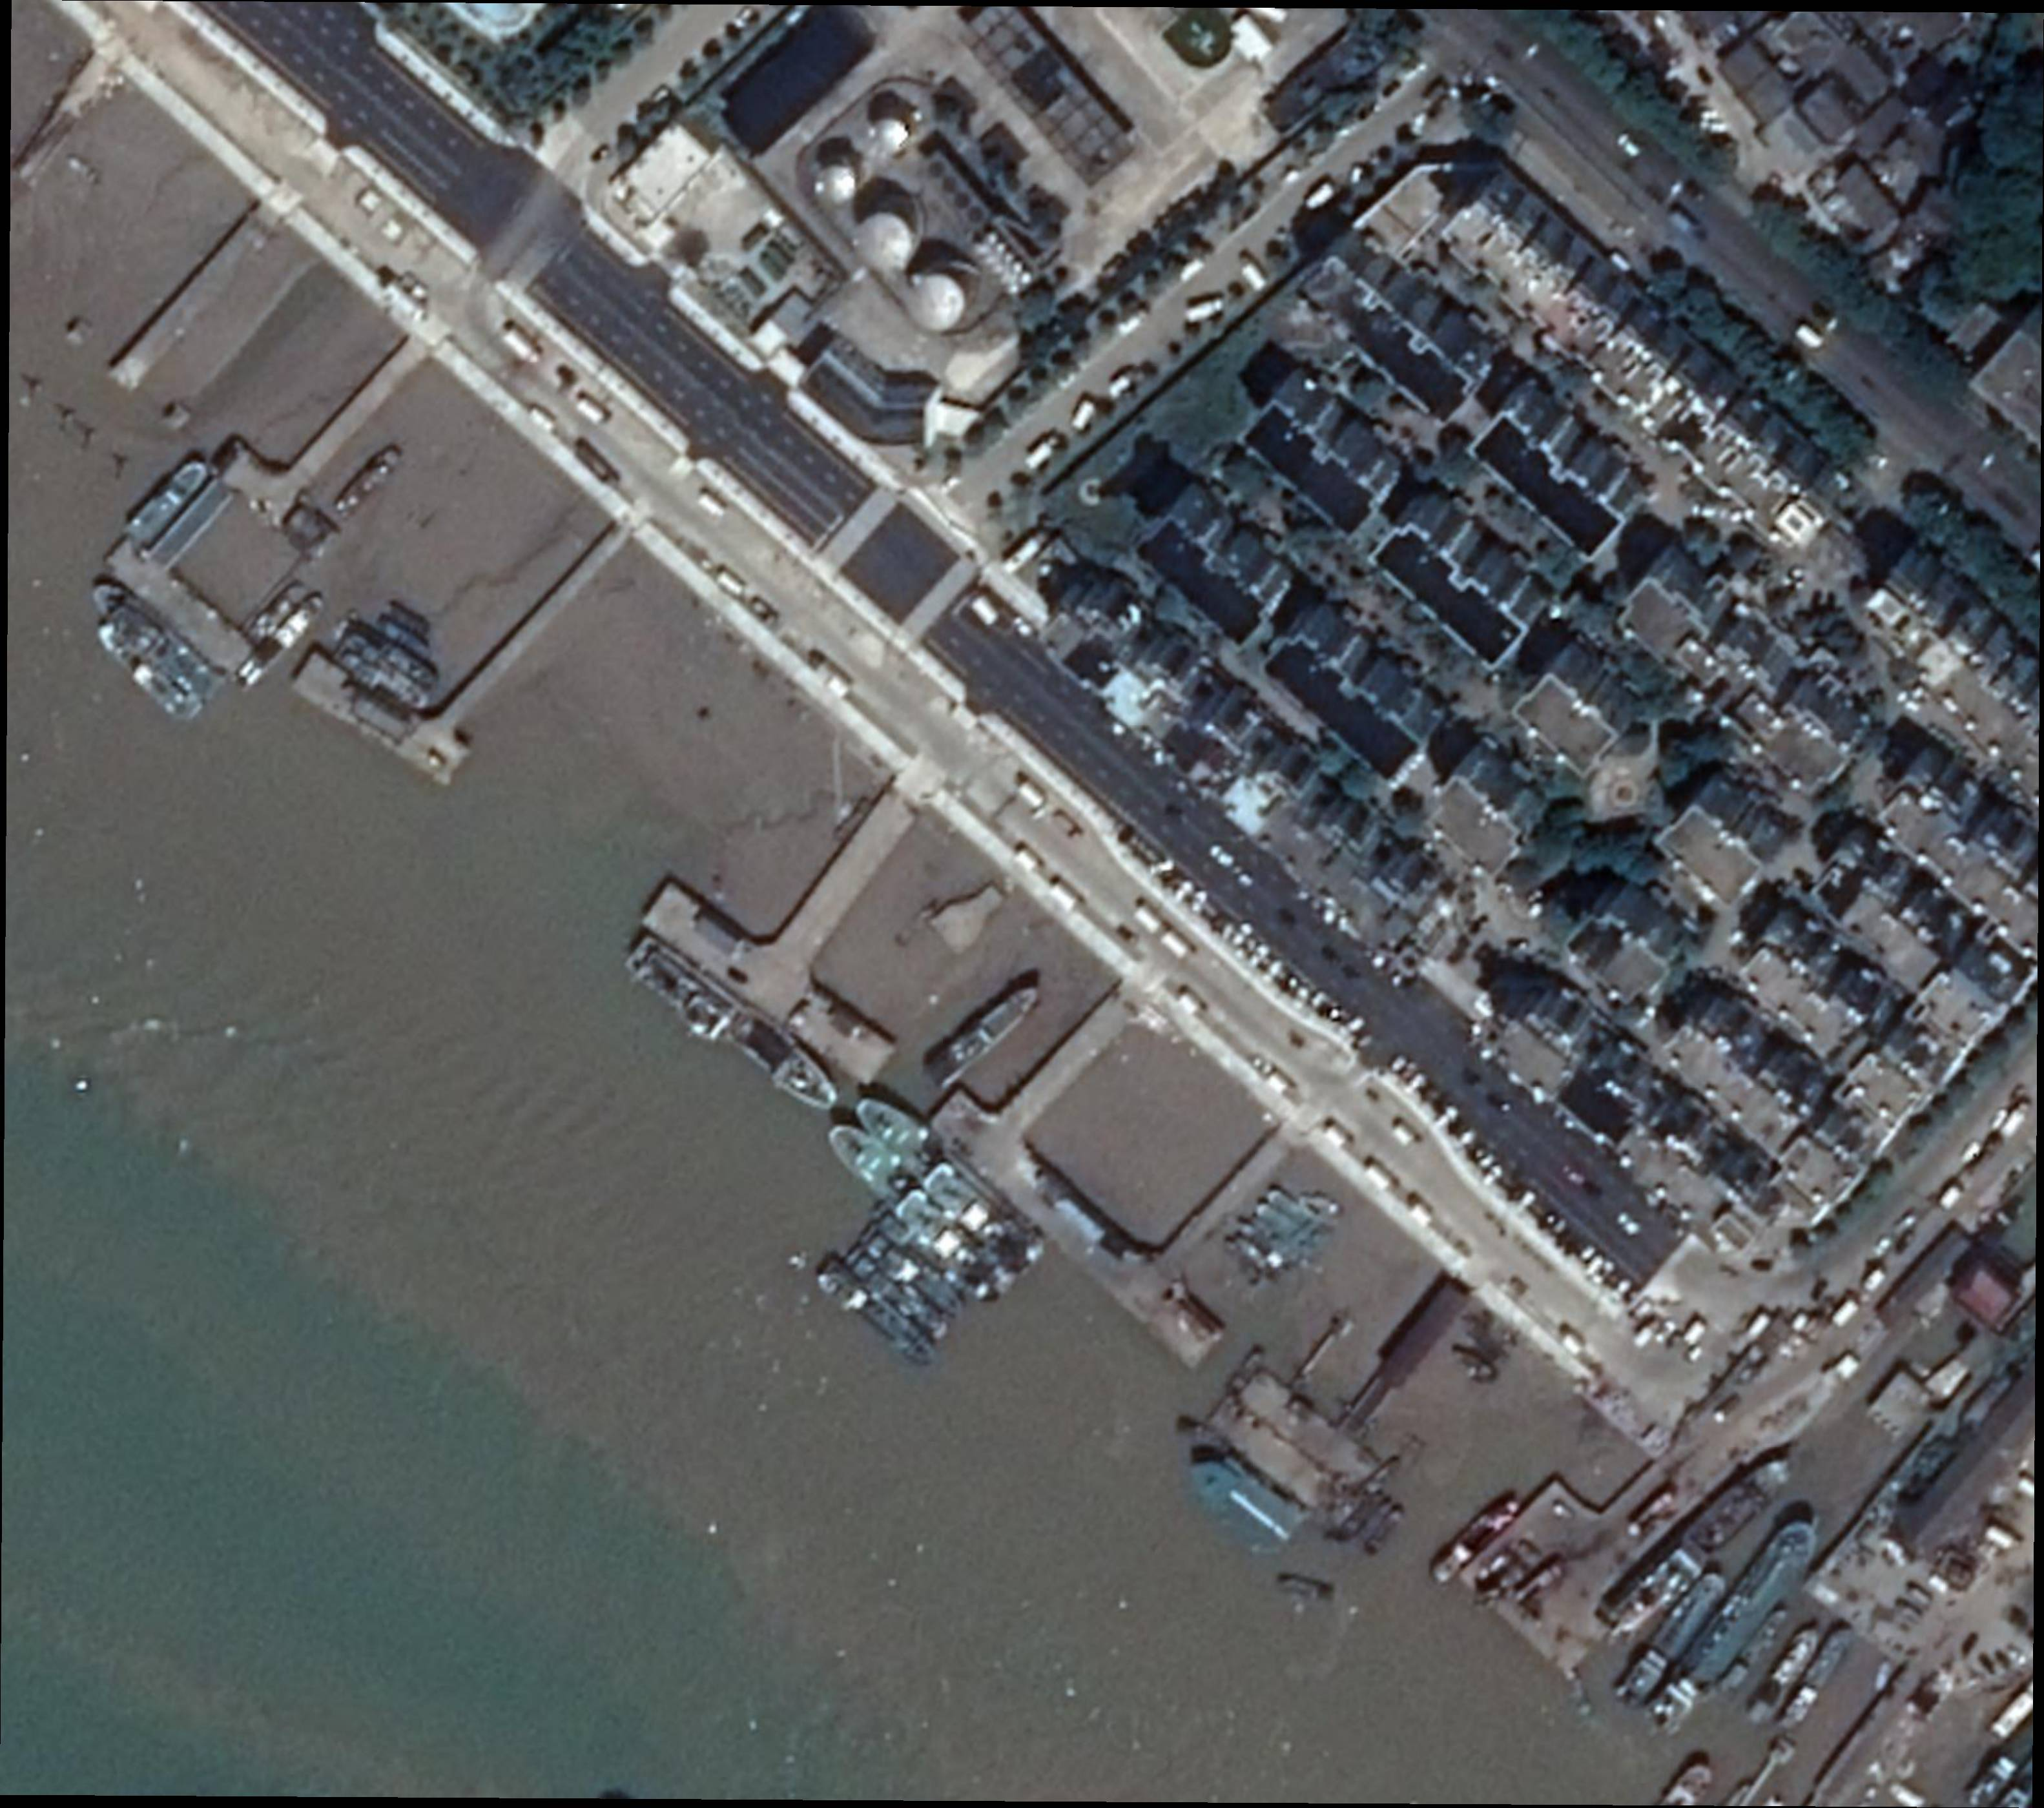harbor: (930, 954, 1351, 1368), (121, 299, 430, 634), (398, 523, 634, 772), (1456, 1426, 1696, 1667), (732, 792, 921, 1022), (1300, 1273, 1476, 1475)
ship: (623, 932, 849, 1121), (1644, 1510, 1828, 1732), (849, 1080, 1051, 1280), (820, 1115, 1016, 1310), (1604, 1448, 1799, 1637), (88, 572, 232, 707), (1612, 1565, 1732, 1708), (815, 1256, 940, 1370), (923, 979, 1043, 1091), (92, 619, 205, 731), (859, 1222, 970, 1319), (843, 1244, 953, 1340), (1426, 1490, 1524, 1588), (1773, 1621, 1857, 1732), (234, 589, 325, 691), (1740, 1619, 1822, 1728), (123, 454, 212, 548), (341, 617, 442, 692), (331, 641, 429, 712), (331, 441, 406, 523)
storage tank: (856, 194, 925, 271), (905, 260, 976, 333), (814, 152, 869, 203), (873, 101, 922, 150)
